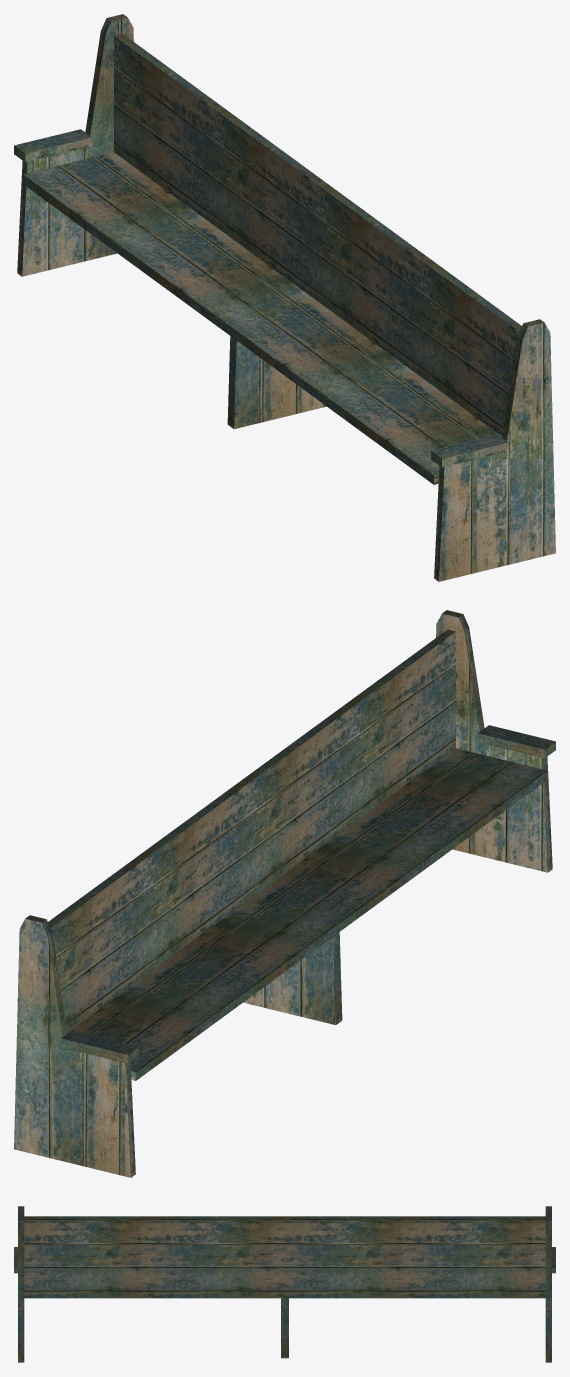
The model's file is mexbench1.fbx.
3 views of the same model, one above another, from view 1: azimuth 30°, elevation 25°; view 2: azimuth 150°, elevation 25°; view 3: azimuth 270°, elevation 25° (orthographic). The views are drawn at different scales.
Parts seen in each view (by area): view 1: mexbench1; view 2: mexbench1; view 3: mexbench1.
Part boxes in pixels (x1,y1,x2,y2): mexbench1: (14, 14, 555, 581); mexbench1: (14, 610, 555, 1177); mexbench1: (14, 1206, 555, 1362).
Size of the model in its own units: 4200 by 8000 by 26600.
